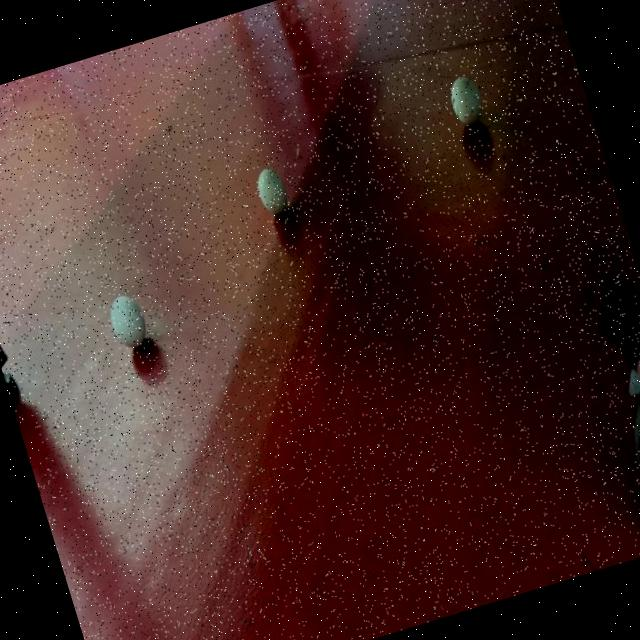ping-pong-ball: (102, 288, 152, 354), (443, 70, 487, 130), (250, 162, 292, 220)
